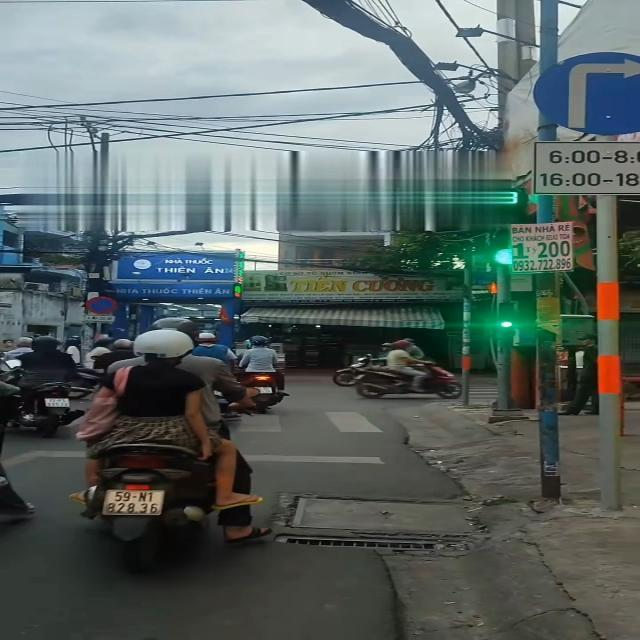301d-cac-xe-chi-duoc-re-phai-2: (533, 48, 640, 134)
